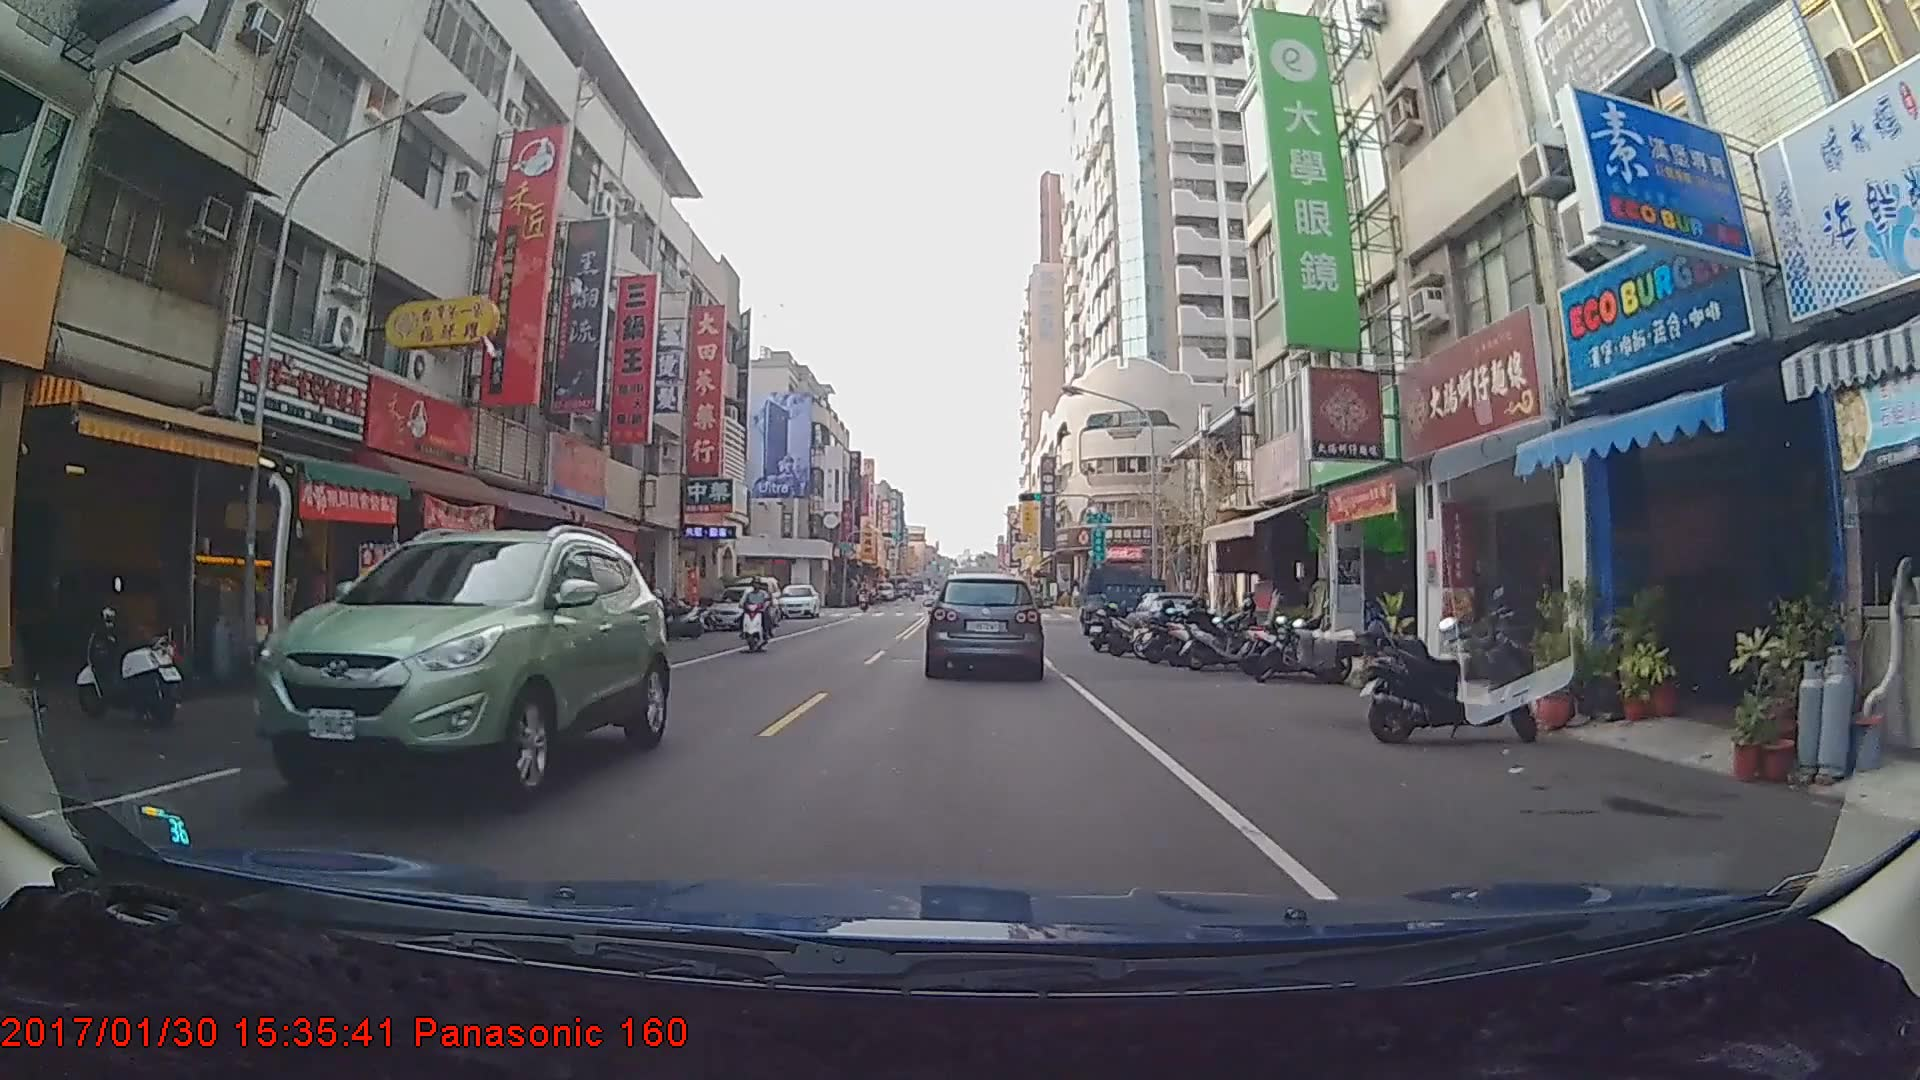rider: (738, 574, 781, 652)
vehicle: (252, 529, 671, 811), (926, 572, 1042, 677), (1077, 564, 1169, 637), (705, 583, 782, 632), (776, 582, 821, 619)
